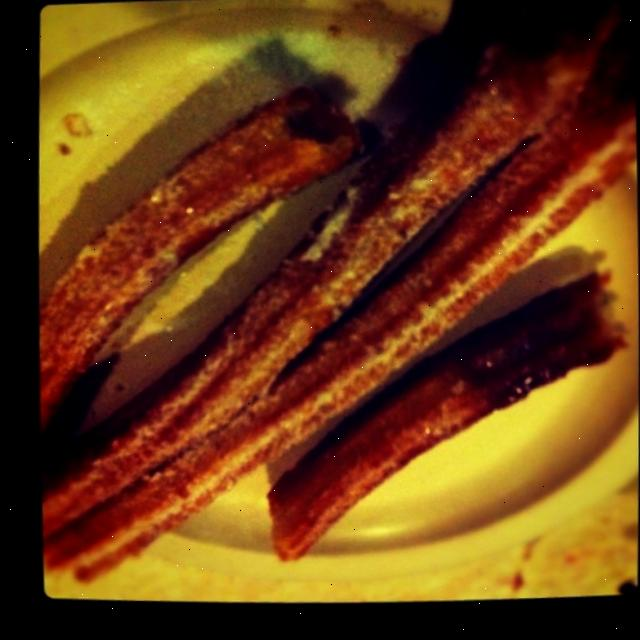炸货点心: (25, 0, 640, 617)
